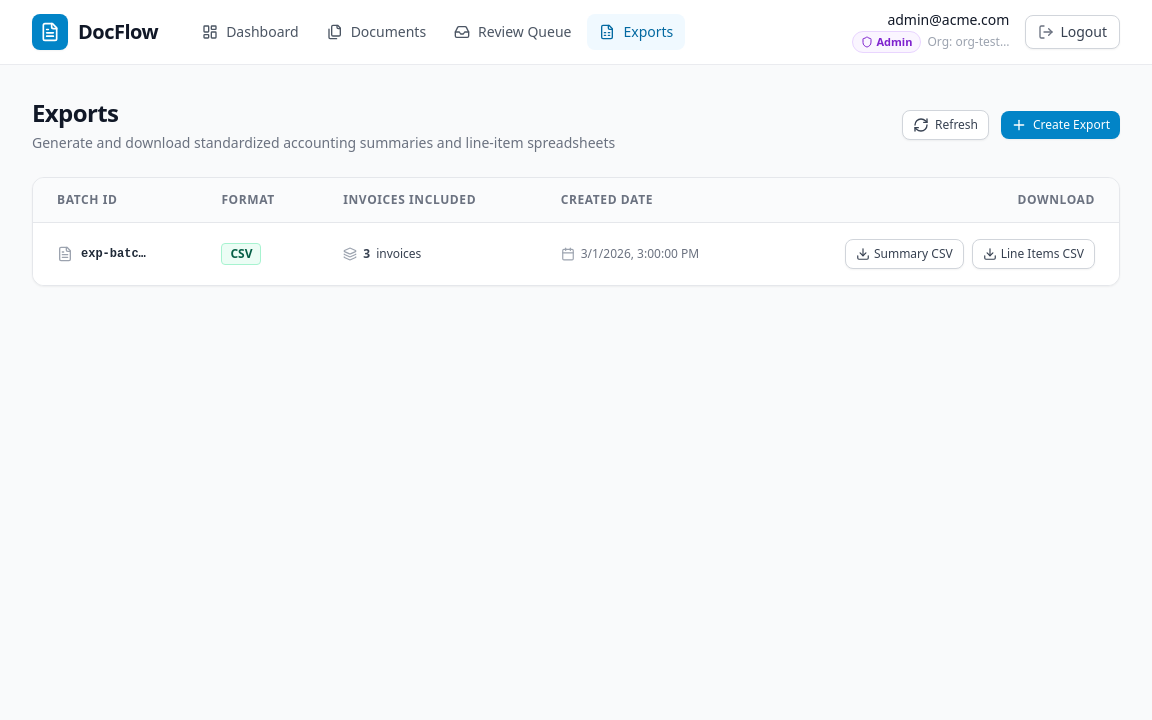
Test: Batch 2: Review Screen, Optimistic Concurrency, and Exports › Export: 409 shows friendly message; download sends Authorization header
Expected: the text "exp-batc…" is shown, [81,246,146,262]
Test 409 friendly notice on create export
What coordinates should you click on to do the following:
click the button with test id "create-export-btn"
I would click on:
 (1060, 125)
Its box is [1001,111,1120,139].
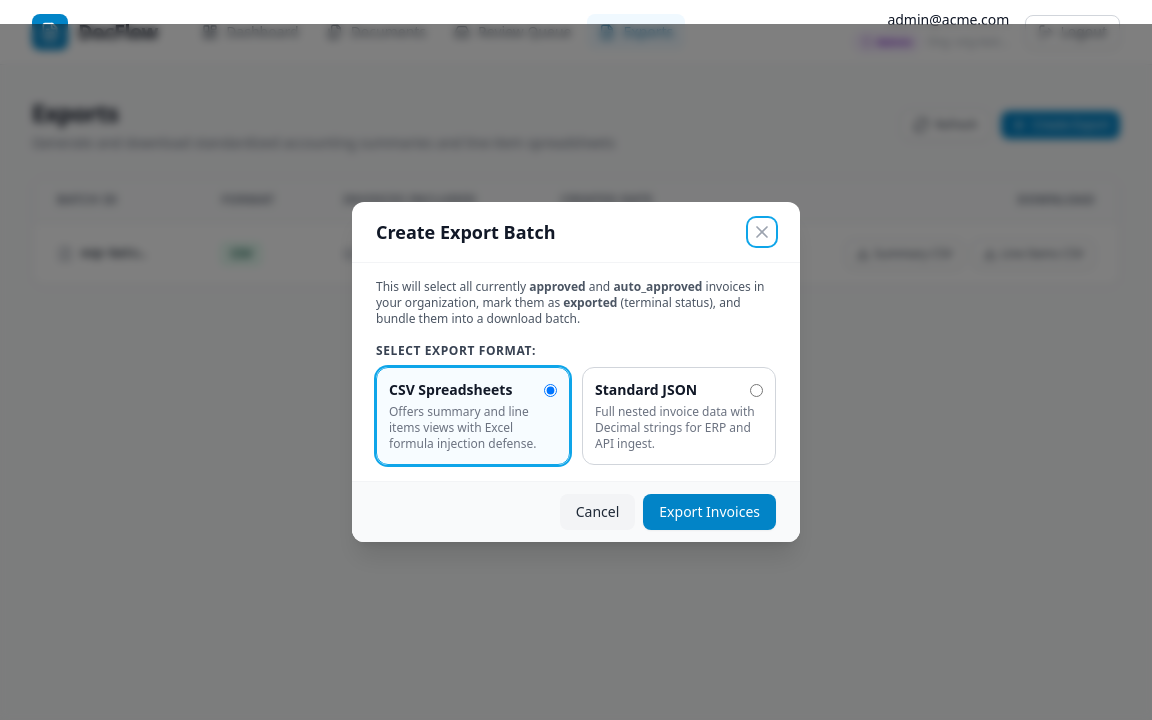
What coordinates should you click on to do the following:
click the button with test id "confirm-create-export-btn"
I would click on:
 (710, 512)
Its box is [643,494,776,530].
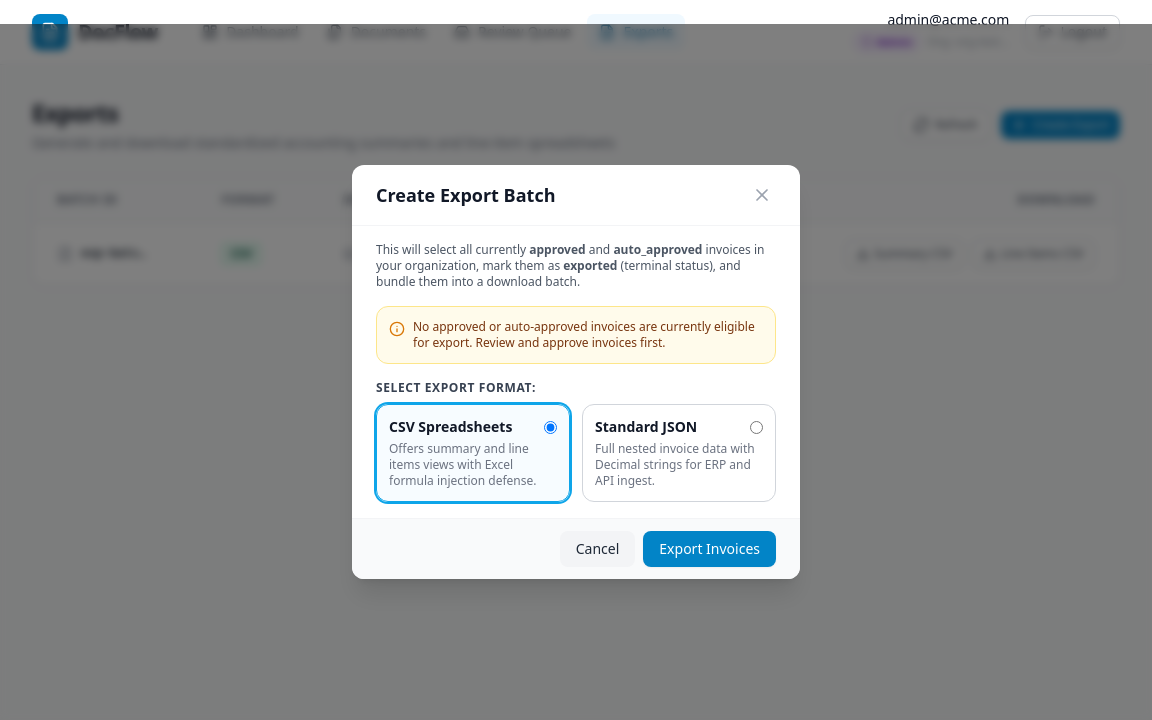
Now the message with test id "nothing-to-export-notice" is shown, box [376,306,776,364]
Now the text "No approved or auto-approved invoices are currently eligible for export" is shown, box [413,318,755,351]
